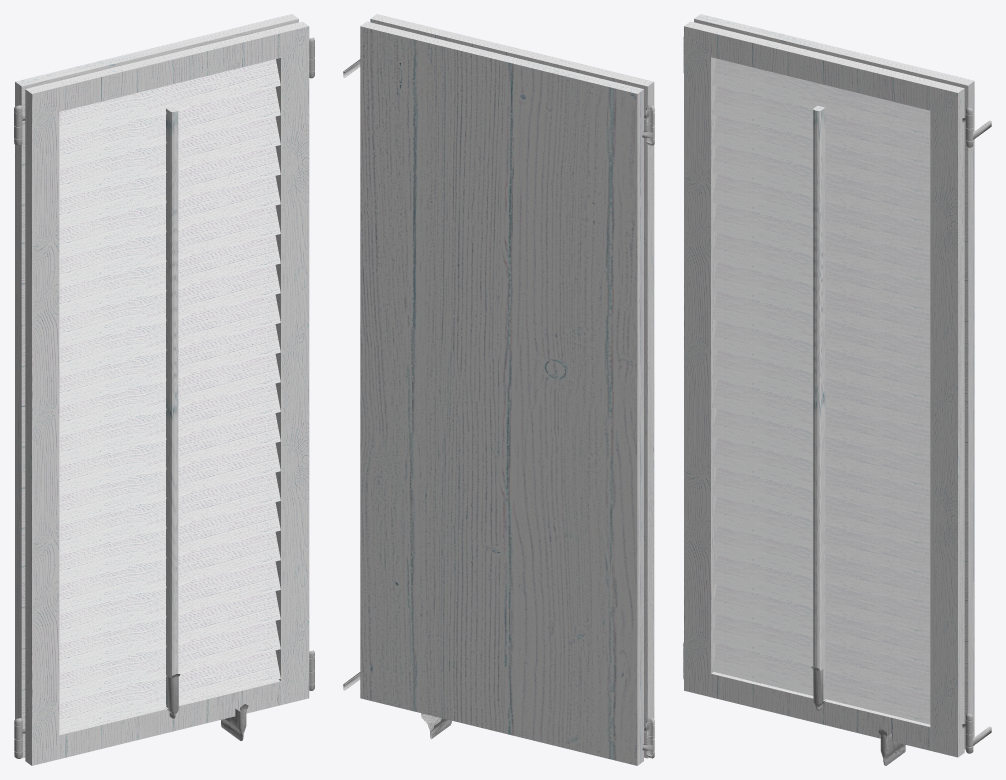
File: FensterladenLinks.glb
3 renders of one model, left to right at view 1: azimuth 30°, elevation 25°; view 2: azimuth 150°, elevation 25°; view 3: azimuth 330°, elevation 25°, orthographic.
Parts seen in each view (by area): view 1: Plane.001, Cube.006, Cube.013, Cube.010, Cube.012; view 2: Cube.013, Cube.006; view 3: Plane.001, Cube.006, Cube.013, Cube.010, Cube.012.
Boxes of the visible parts, x1,y1,x2,y2 form: Plane.001: (59, 59, 280, 732); Cube.006: (25, 21, 309, 765); Cube.013: (15, 14, 298, 758); Cube.010: (166, 106, 178, 707); Cube.012: (221, 704, 248, 740); Cube.013: (360, 21, 643, 765); Cube.006: (370, 14, 654, 758); Plane.001: (712, 58, 930, 724); Cube.006: (684, 21, 964, 757); Cube.013: (694, 14, 974, 749); Cube.010: (813, 105, 825, 700); Cube.012: (878, 729, 905, 765).
Size of the model in its own units: 1.73 by 3.9 by 0.3029.
2 materials, 2 textured.
